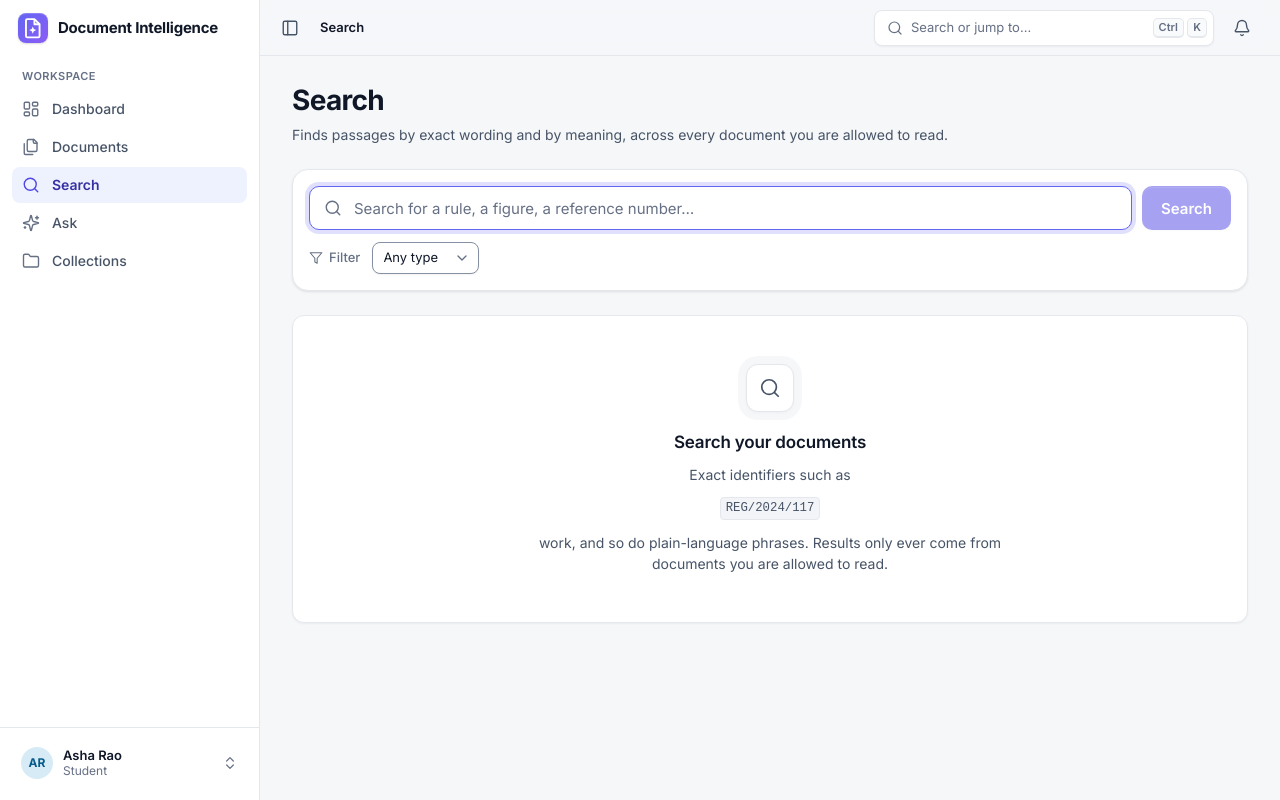
search results by document › shows one card per document with the server's highlights and facts
Type "regulations act" into the search field named "Search documents".
click(721, 208); type("regulations act")  # box top-left (309, 186), bottom-right (1132, 230)
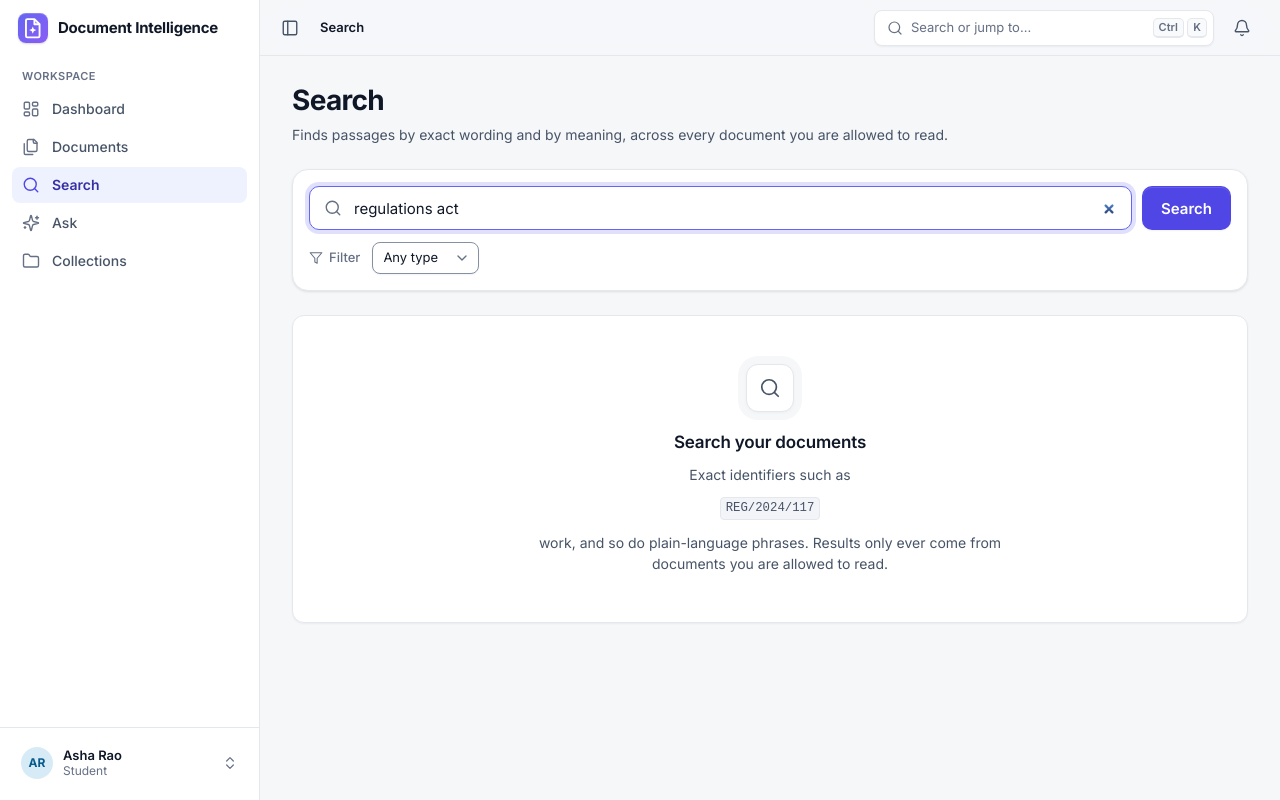
Click the button "Search".
click(1187, 208)  # box top-left (1142, 186), bottom-right (1231, 230)
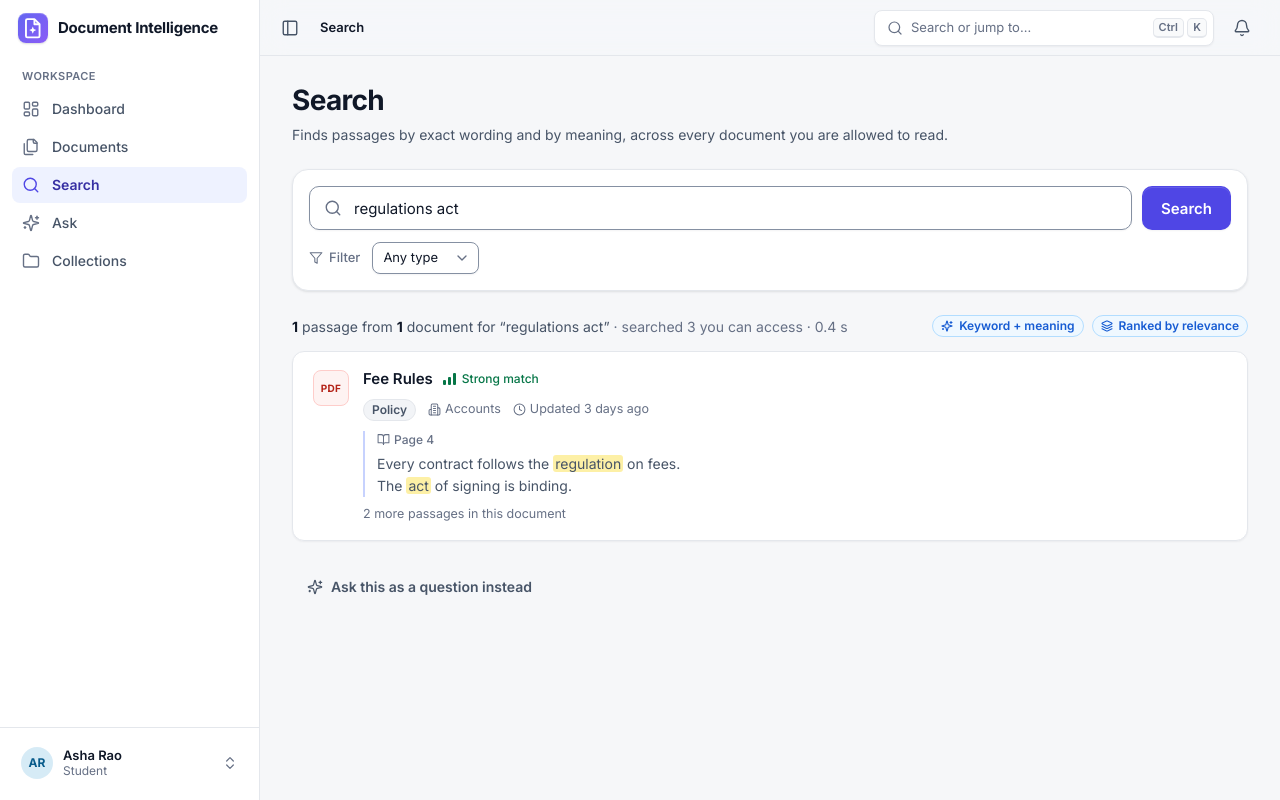
Now the list item "Fee Rules" shows "Policy", box top-left (372, 402), bottom-right (407, 417)
Now the list item "Fee Rules" shows "Accounts", box top-left (445, 401), bottom-right (501, 416)
Now the list item "Fee Rules" shows "Updated 3 days ago", box top-left (292, 351), bottom-right (1248, 541)
